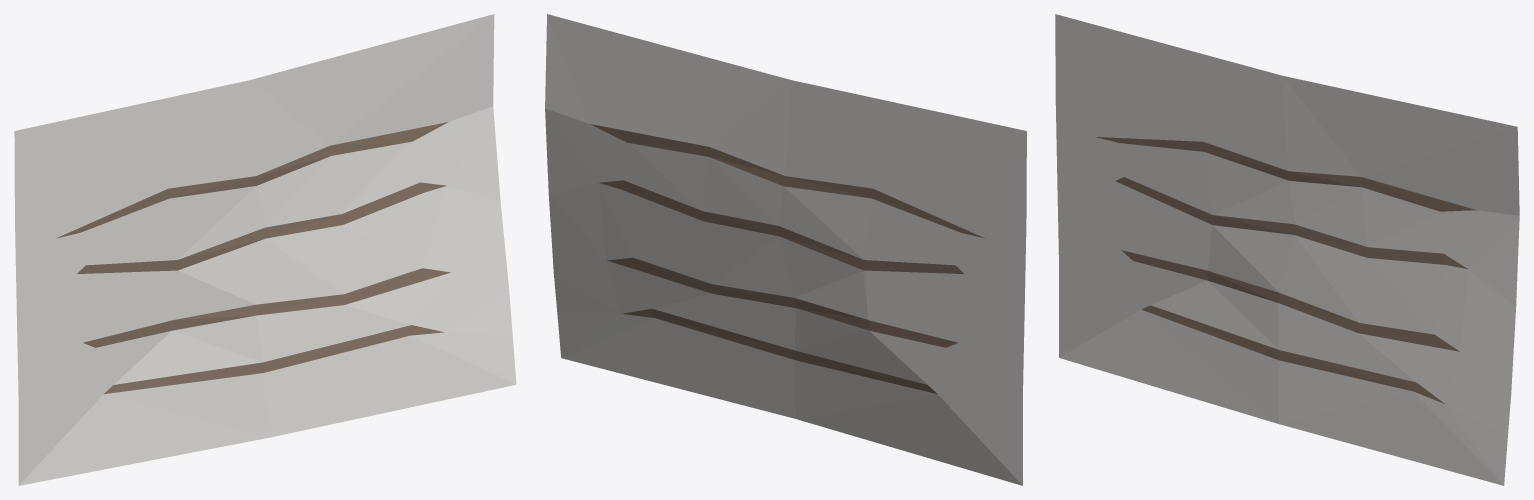
The model's file is SFHW_Paper_032.fbx.
3 renders of one model, left to right at view 1: azimuth 30°, elevation 25°; view 2: azimuth 150°, elevation 25°; view 3: azimuth 330°, elevation 25°, orthographic. The views are drawn at different scales.
Parts seen in each view (by area): view 1: SFHW_Paper_032; view 2: SFHW_Paper_032; view 3: SFHW_Paper_032.
Part boxes in pixels (box(x1,y1,x2,y2)): SFHW_Paper_032: box(14, 14, 516, 485); SFHW_Paper_032: box(545, 14, 1026, 485); SFHW_Paper_032: box(1055, 14, 1519, 485).
Size of the model in its own units: 19.42 by 13.74 by 1.37.
